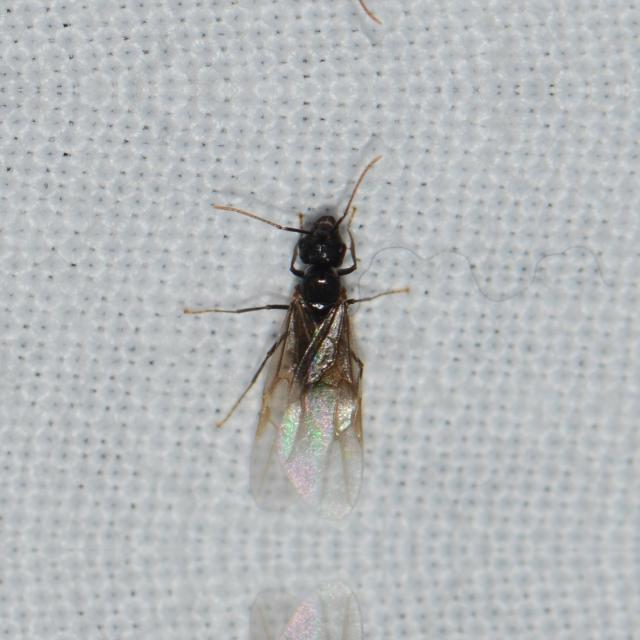Lasius: (235, 201, 383, 511)
